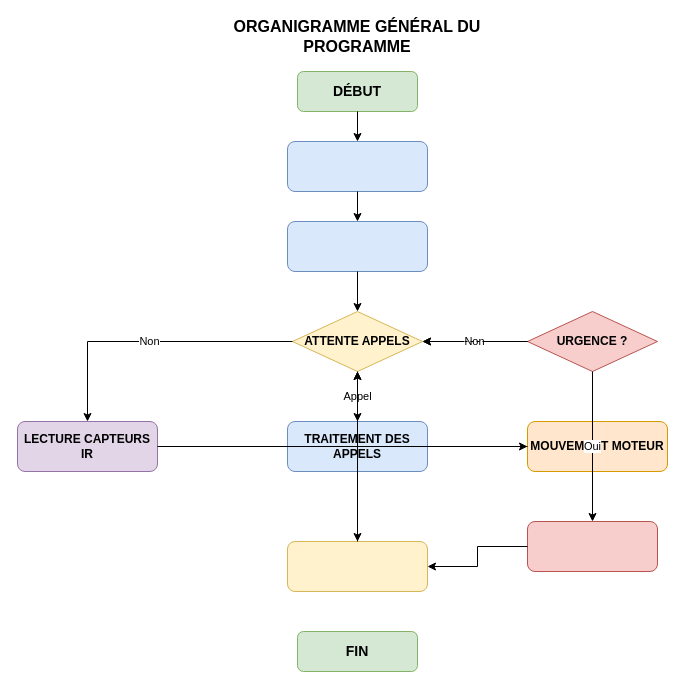
This 685x689 diagram has some shape labels left out. The centre of each missing label's shape, as x and y in pixels:
AFFICHAGE LCD: (357,566)
ARRÊT D'URGENCE: (592,546)
HOMING (Retour à l'étage 0): (357,246)
INITIALISATION (Setup): (357,166)
